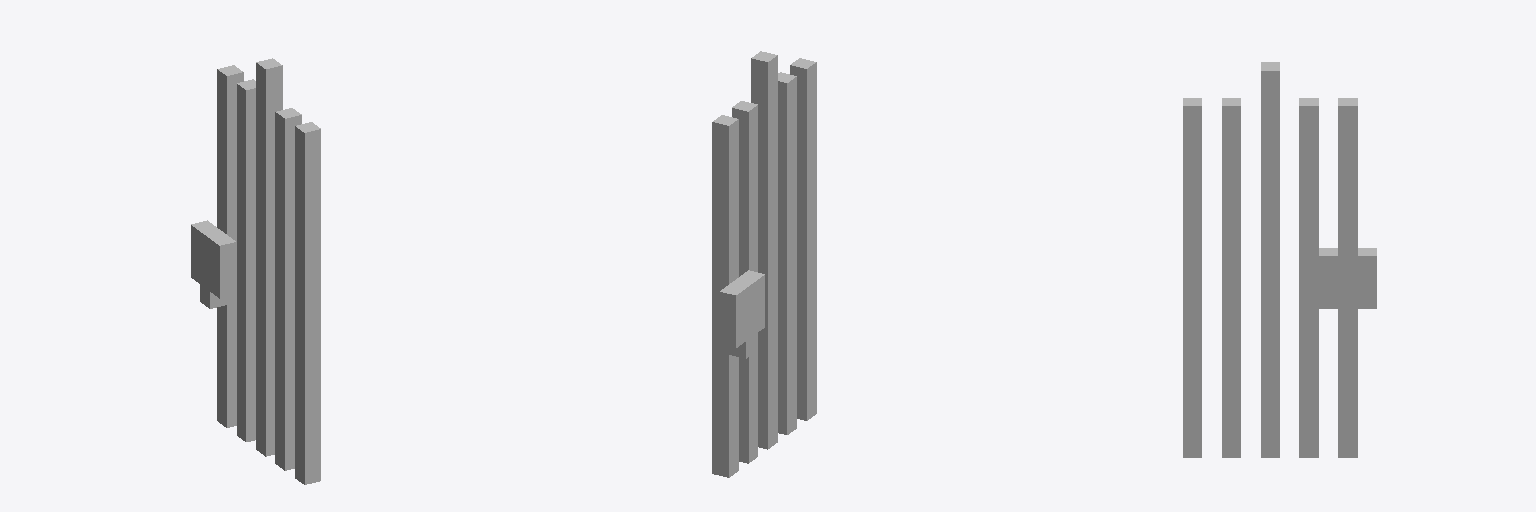
The model's file is Door_Prison_Gold.obj.
3 renders of one model, left to right at view 1: azimuth 30°, elevation 25°; view 2: azimuth 150°, elevation 25°; view 3: azimuth 270°, elevation 25°, orthographic.
Parts seen in each view (by area): view 1: Door_Prison_Gold; view 2: Door_Prison_Gold; view 3: Door_Prison_Gold.
Part boxes in pixels (left/top/right/bottom): Door_Prison_Gold: left=191, top=58, right=320, bottom=484; Door_Prison_Gold: left=712, top=51, right=816, bottom=477; Door_Prison_Gold: left=1183, top=62, right=1376, bottom=457.
Size of the model in its own units: 0.2 by 2.2 by 1.